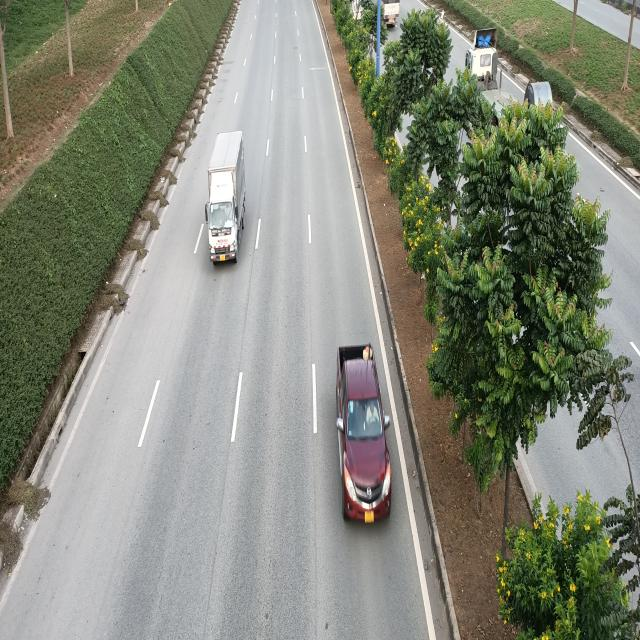car: (334, 343, 391, 521)
truck: (204, 134, 247, 268)
